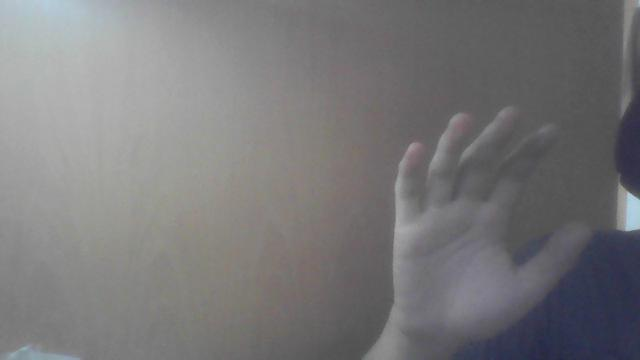Stop: (401, 111, 583, 341)
